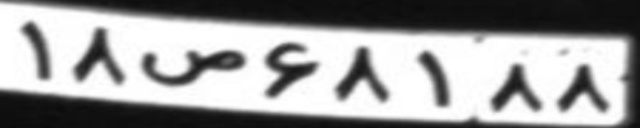1: (21, 19, 55, 82), (417, 49, 450, 106)
6: (259, 40, 323, 100)
8: (331, 41, 390, 102), (68, 25, 127, 84), (486, 62, 541, 112), (554, 63, 608, 113)
saat: (138, 47, 245, 88)
